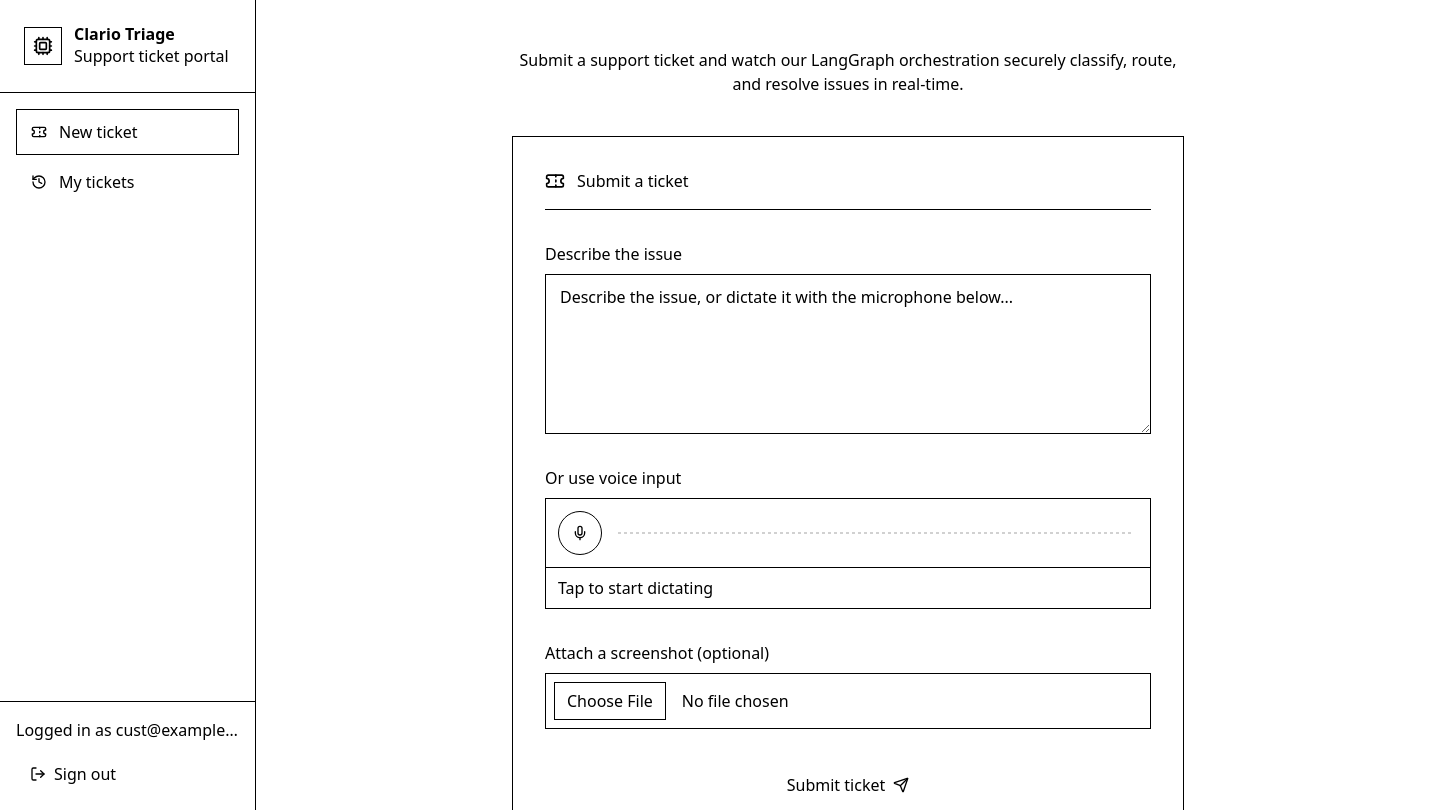
Test: customer dashboard - accessible structure › closes the success dialog and refetches tickets from its View my tickets button
Type "help" into the text box labelled "Describe the issue".
click(848, 354); type("help")  # box [545,274,1151,434]
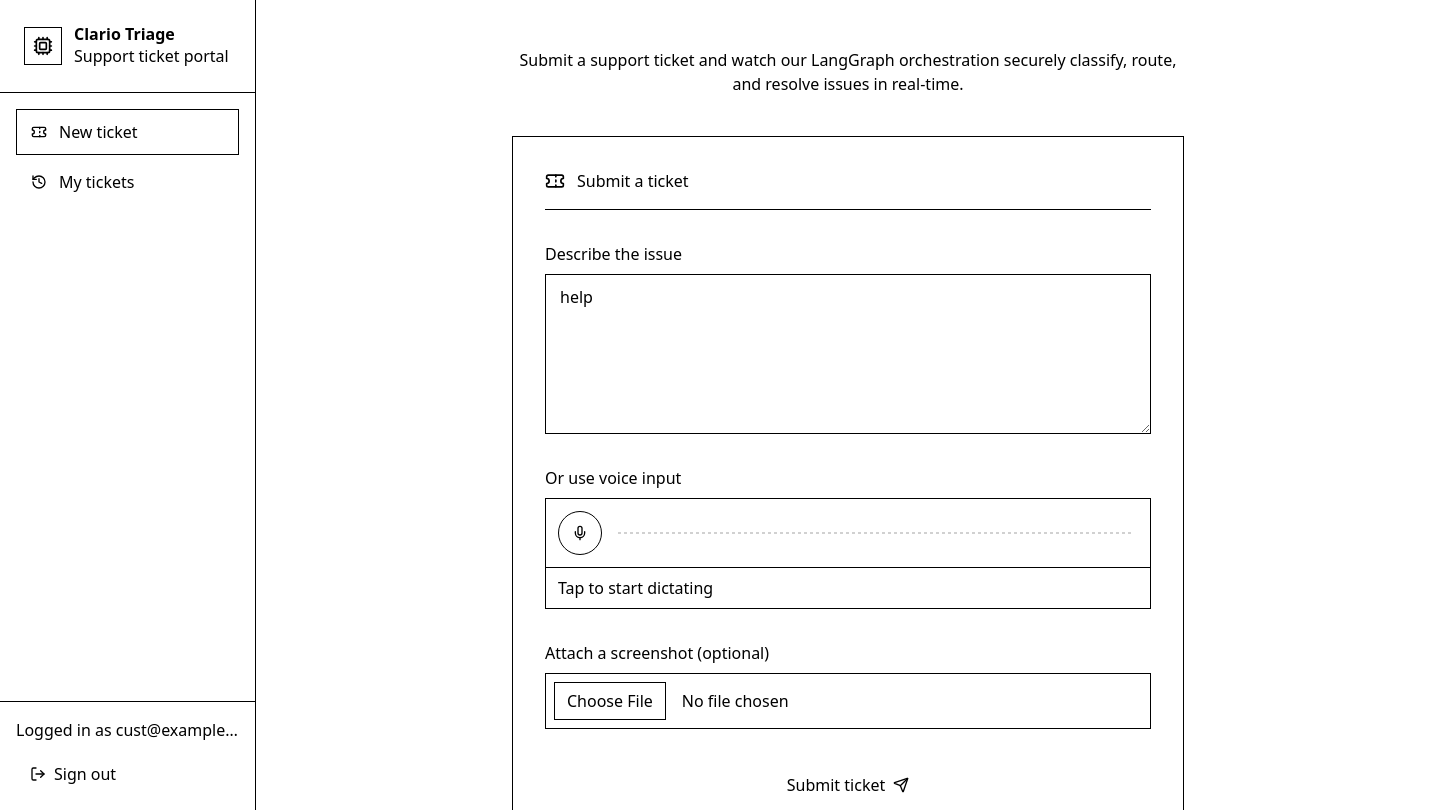
Click the button "Submit ticket".
click(848, 785)  # box [545,761,1151,809]
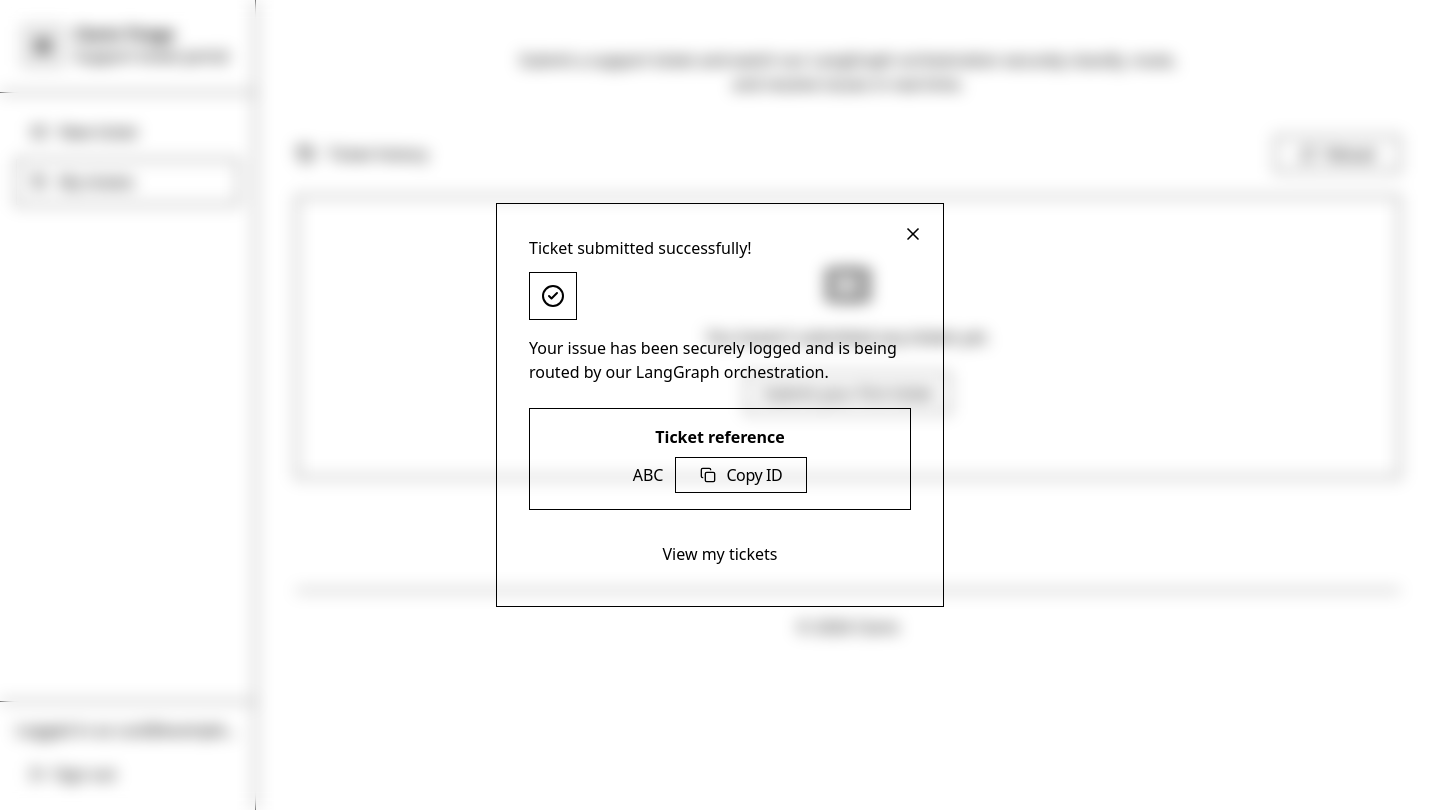
Click the button "View my tickets".
click(720, 554)  # box [529,534,911,574]
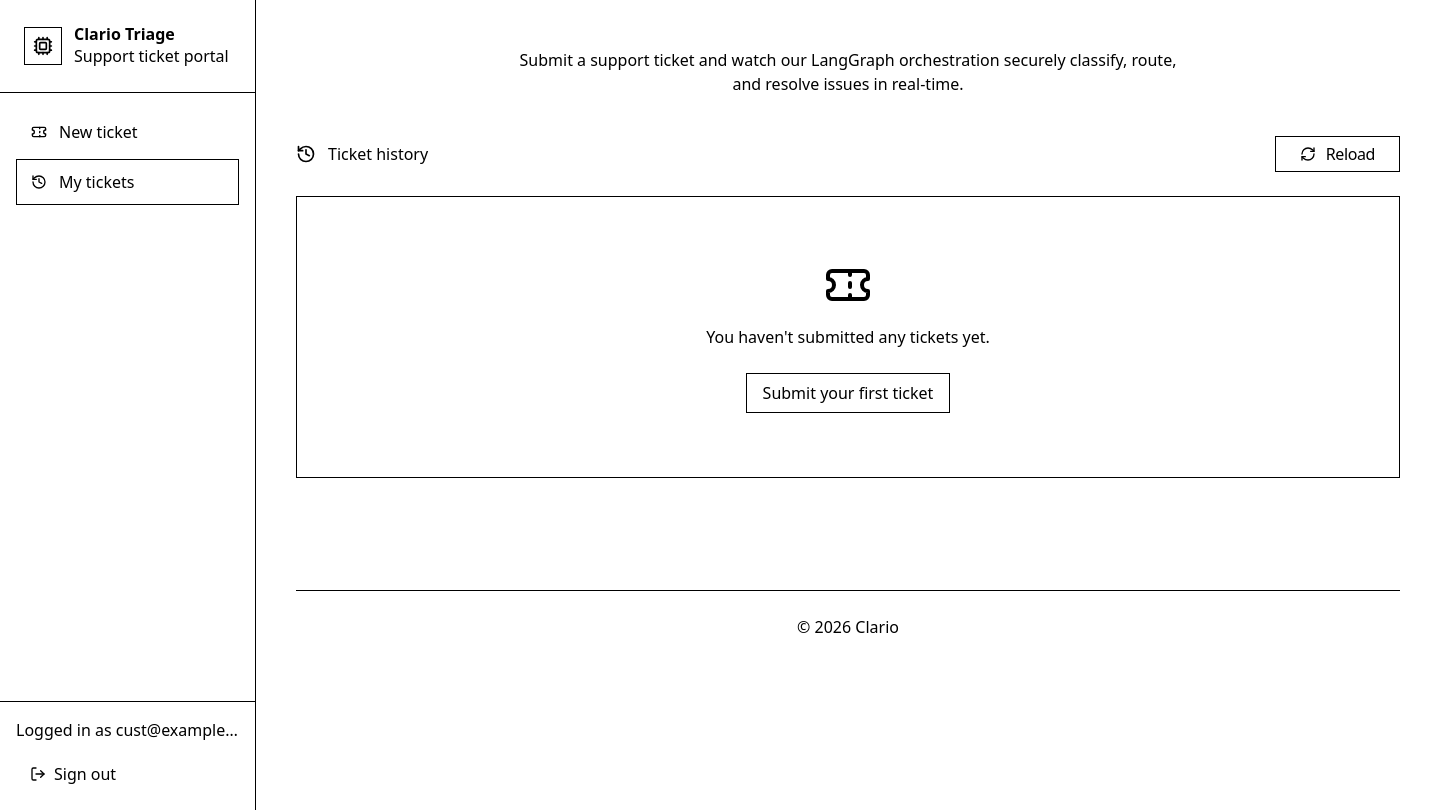
Result: the dialog is gone
